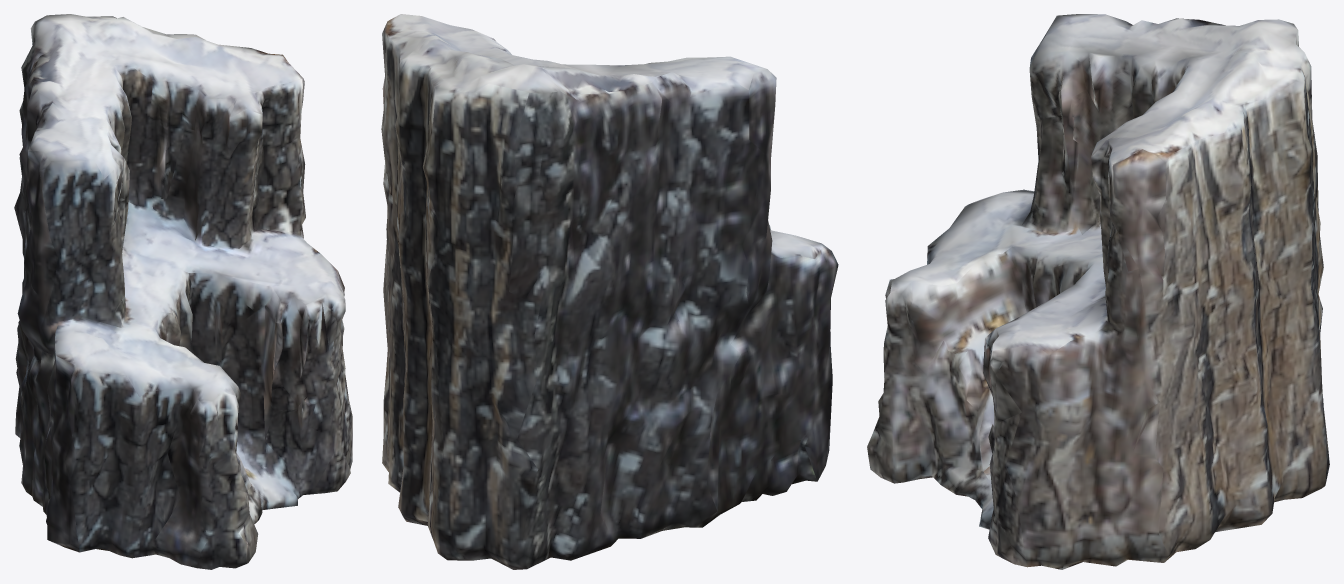
File: ThirdRoom_CliffMass.fbx
3 views of the same model, side by side, from view 1: azimuth 30°, elevation 25°; view 2: azimuth 150°, elevation 25°; view 3: azimuth 270°, elevation 25° (orthographic). The views are drawn at different scales.
Parts seen in each view (by area): view 1: ThirdRoom_CliffMass_Mesh; view 2: ThirdRoom_CliffMass_Mesh; view 3: ThirdRoom_CliffMass_Mesh.
Part boxes in pixels (x1,y1,x2,y2): ThirdRoom_CliffMass_Mesh: (14,14,352,569); ThirdRoom_CliffMass_Mesh: (381,14,838,569); ThirdRoom_CliffMass_Mesh: (867,14,1329,569).
Bounding box in the file's own units: 4.68 × 6 × 5.54.
Materials: 1 (1 with a texture image).
